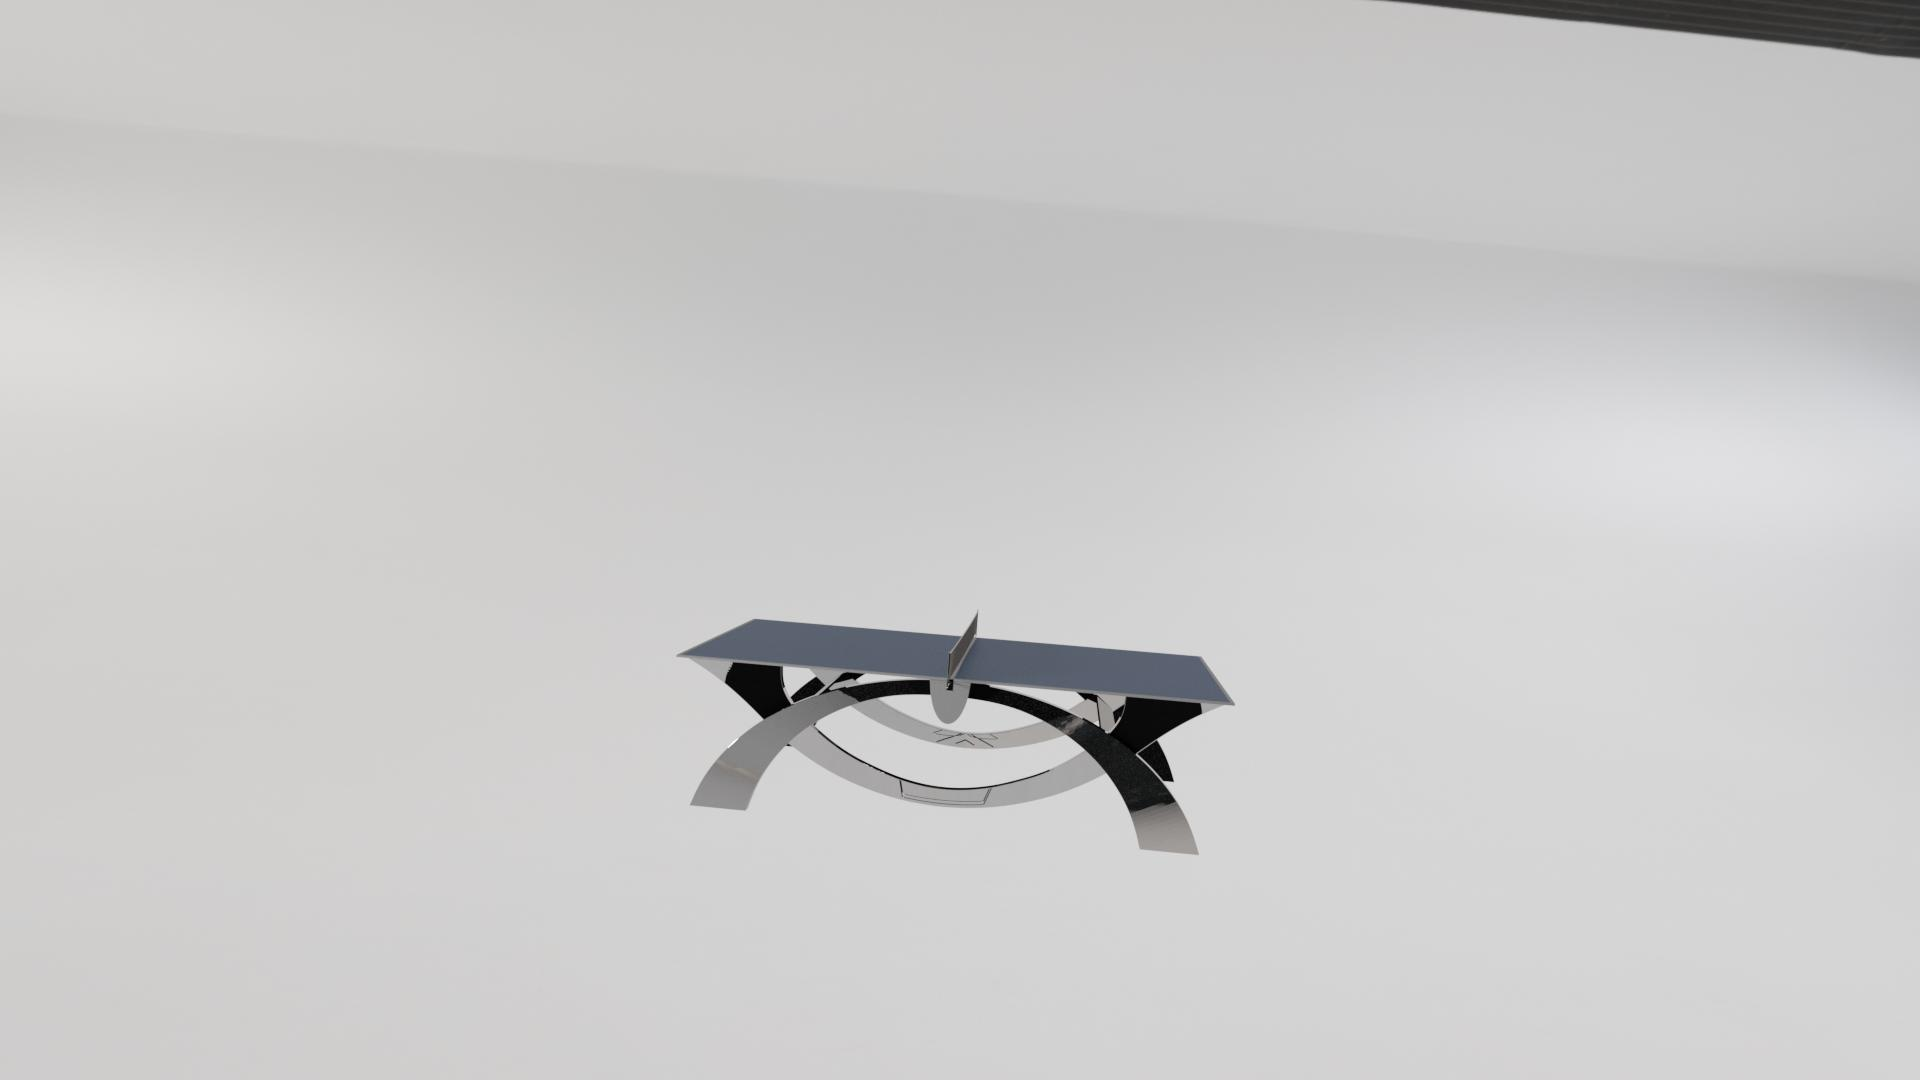table: (682, 620, 1230, 703)
